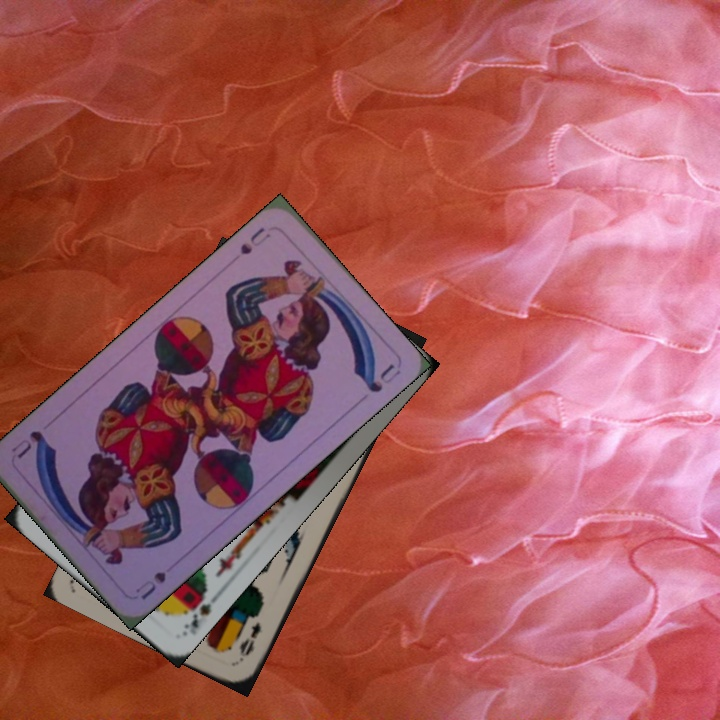EO: (235, 618, 264, 658)
SK: (178, 581, 222, 639)
SU: (131, 567, 169, 602), (236, 223, 274, 258)
